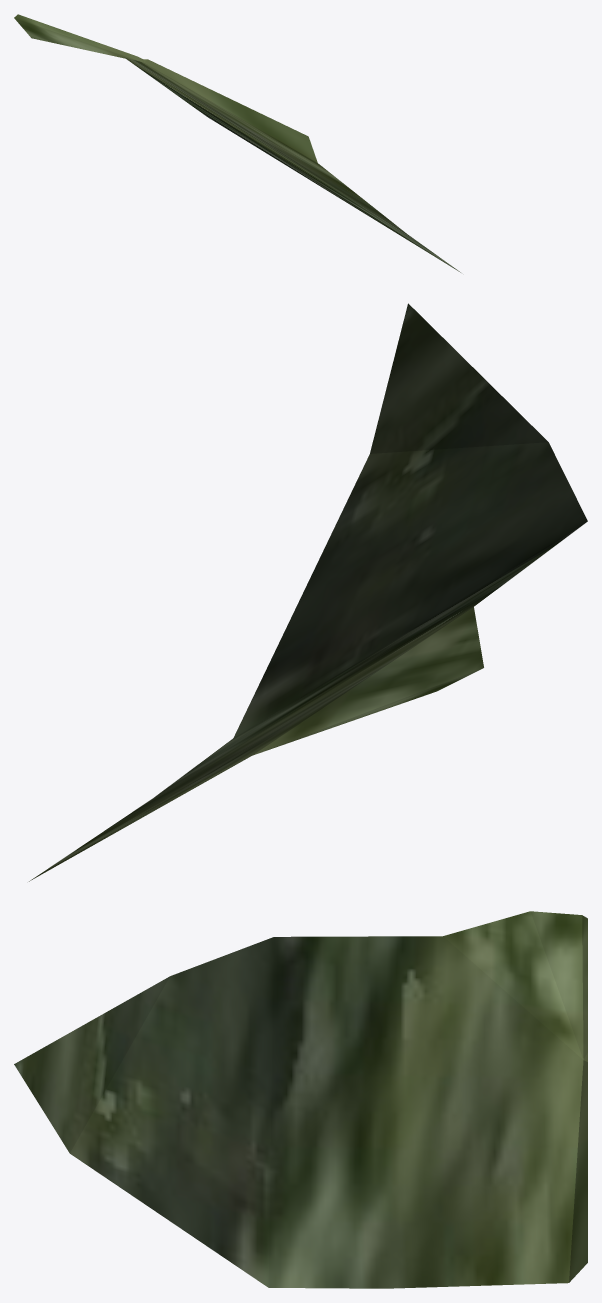
The picture shows the model from 3 angles, top to bottom: view 1: azimuth 30°, elevation 25°; view 2: azimuth 150°, elevation 25°; view 3: azimuth 270°, elevation 25°; orthographic projection. The views are drawn at different scales.
Bounding box in the file's own units: 0.8173 × 0.5592 × 1.3.
1 material, 1 textured.
